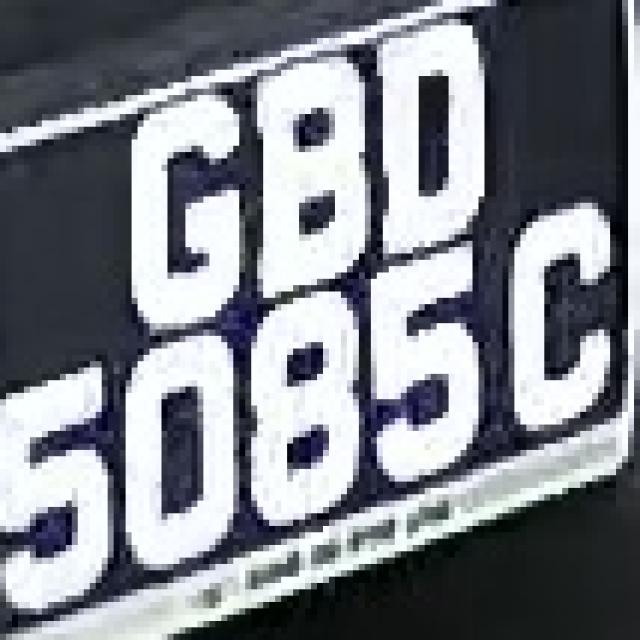0: (114, 316, 251, 576)
5: (353, 254, 496, 514), (12, 342, 114, 634)
8: (227, 285, 377, 526)
B: (239, 38, 371, 311)
C: (497, 203, 616, 456)
D: (365, 6, 514, 247)
G: (102, 82, 251, 324)
